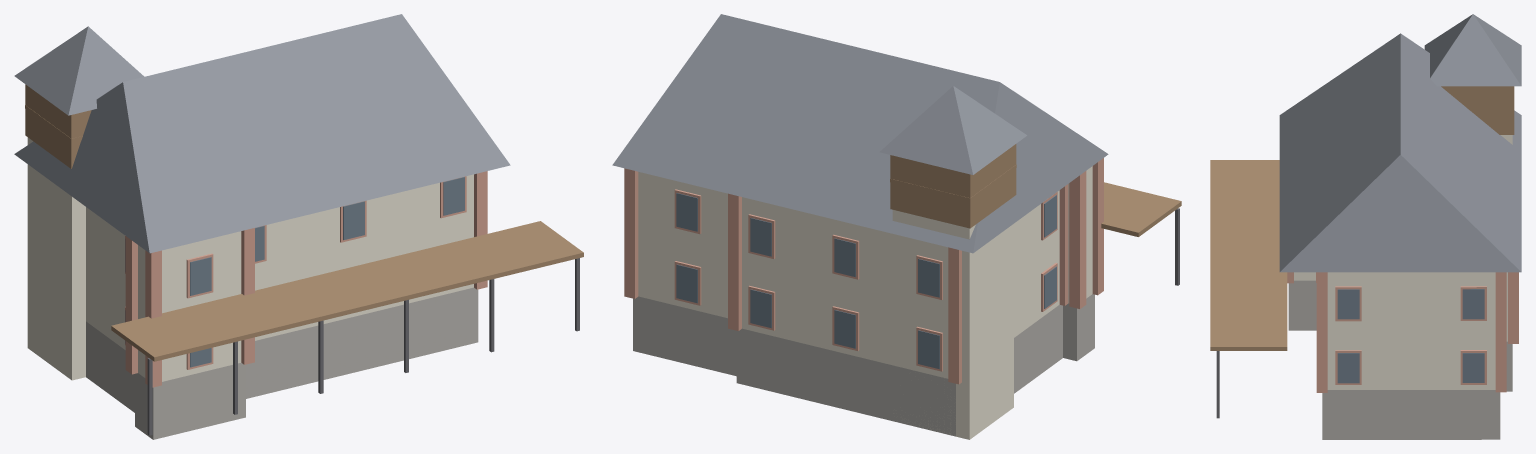
The model's file is kandern-bahnhof.glb.
3 renders of one model, left to right at view 1: azimuth 30°, elevation 25°; view 2: azimuth 150°, elevation 25°; view 3: azimuth 270°, elevation 25°, orthographic. The views are drawn at different scales.
Visible parts, largest first — view 1: building; view 2: building; view 3: building.
Boxes of the visible parts, x1,y1,x2,y2 form: building: [14, 14, 583, 439]; building: [612, 14, 1181, 439]; building: [1210, 14, 1521, 439].
Size of the model in its own units: 20.18 by 14.7 by 14.14.
